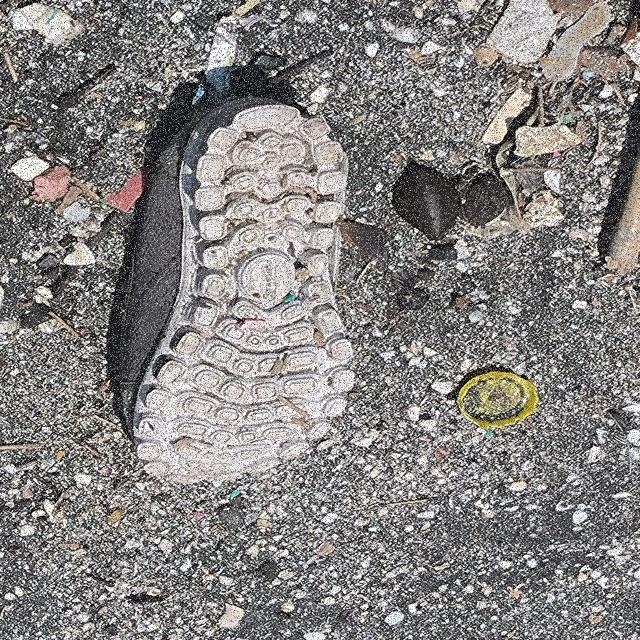plastic_waste: (457, 372, 542, 430)
rubber_waste: (111, 94, 359, 486)
